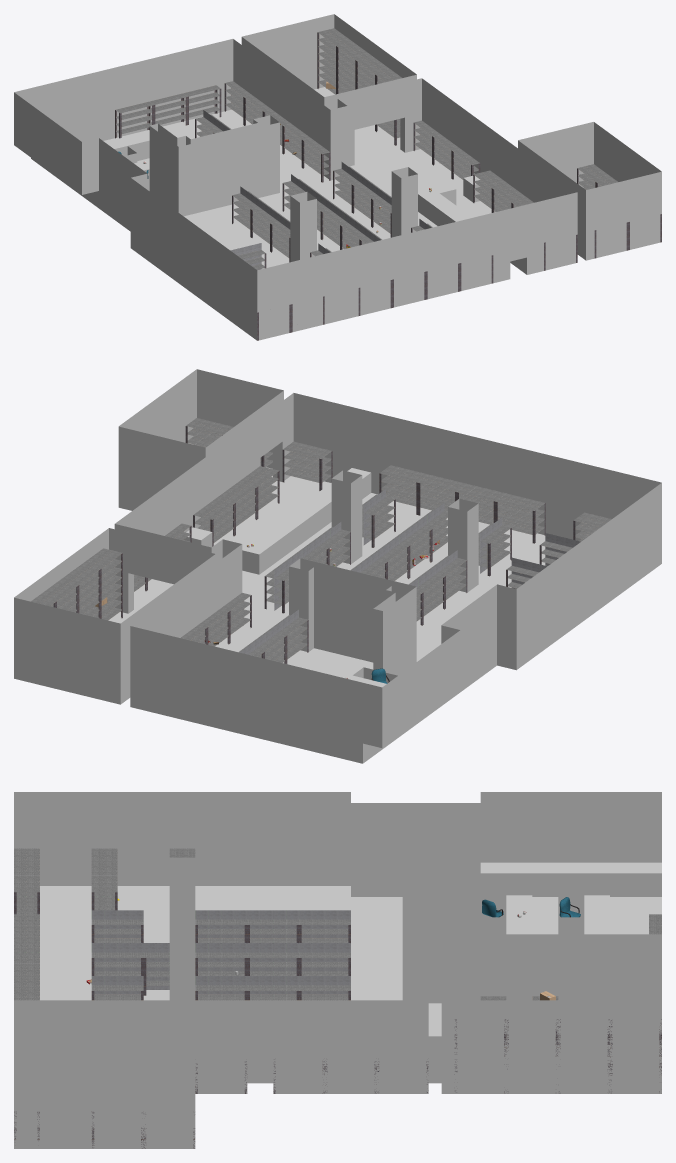
The model's file is Supermarket.fbx.
The picture shows the model from 3 angles, top to bottom: view 1: azimuth 30°, elevation 25°; view 2: azimuth 150°, elevation 25°; view 3: azimuth 270°, elevation 25°; orthographic projection. The views are drawn at different scales.
Visible parts, largest first — view 1: Terrain, BigShelf.002, BigShelf.004, BigWideShelf2.016, BigWideShelf2.010, BigWideShelf.009, BigWideShelf.017, BigWideShelf.010, BigWideShelf2.009, BigShelf.003, BigWideShelf2.019, BigWideShelf2.018 (+16 smaller); view 2: Terrain, BigWideShelf.020, BigWideShelf.007, BigWideShelf.016, BigWideShelf2.004, BigWideShelf2.011, BigWideShelf.015, BigWideShelf.017, BigWideShelf.018, BigWideShelf.019, BigWideShelf.011, BigWideShelf.012 (+18 smaller); view 3: Terrain, BigWideShelf2.004, BigWideShelf2.006, BigWideShelf2.007, BigWideShelf2.009, BigWideShelf2.005, BigWideShelf2.010, BigWideShelf2.017, BigWideShelf2.018, BigWideShelf2.011, BigWideShelf2.012, BigWideShelf2.016 (+10 smaller).
Part boxes in pixels (left/top/right/bottom): Terrain: left=14, top=14, right=661, bottom=340; BigShelf.002: left=115, top=101, right=153, bottom=138; BigShelf.004: left=183, top=85, right=221, bottom=124; BigWideShelf2.016: left=333, top=162, right=368, bottom=212; BigWideShelf2.010: left=232, top=186, right=267, bottom=237; BigWideShelf.009: left=317, top=28, right=353, bottom=74; BigWideShelf.017: left=473, top=170, right=508, bottom=212; BigWideShelf.010: left=337, top=42, right=372, bottom=88; BigWideShelf2.009: left=321, top=203, right=357, bottom=249; BigShelf.003: left=149, top=93, right=187, bottom=125; BigWideShelf2.019: left=352, top=176, right=388, bottom=226; BigWideShelf2.018: left=251, top=201, right=287, bottom=251; Terrain: left=14, top=369, right=661, bottom=763; BigWideShelf.020: left=282, top=441, right=332, bottom=490; BigWideShelf.007: left=495, top=493, right=545, bottom=543; BigWideShelf.016: left=379, top=465, right=428, bottom=514; BigWideShelf2.004: left=478, top=517, right=511, bottom=576; BigWideShelf2.011: left=362, top=489, right=395, bottom=547; BigWideShelf.015: left=418, top=474, right=467, bottom=515; BigWideShelf.017: left=193, top=499, right=234, bottom=546; BigWideShelf.018: left=215, top=482, right=257, bottom=535; BigWideShelf.019: left=238, top=466, right=279, bottom=518; BigWideShelf.011: left=59, top=564, right=100, bottom=613; BigWideShelf.012: left=81, top=548, right=122, bottom=601; Terrain: left=14, top=792, right=661, bottom=1148; BigWideShelf2.004: left=91, top=910, right=143, bottom=942; BigWideShelf2.006: left=195, top=910, right=247, bottom=942; BigWideShelf2.007: left=91, top=943, right=143, bottom=975; BigWideShelf2.009: left=195, top=943, right=247, bottom=975; BigWideShelf2.005: left=299, top=943, right=350, bottom=975; BigWideShelf2.010: left=299, top=910, right=350, bottom=942; BigWideShelf2.017: left=247, top=943, right=298, bottom=975; BigWideShelf2.018: left=247, top=910, right=298, bottom=942; BigWideShelf2.011: left=91, top=976, right=143, bottom=1000; BigWideShelf2.012: left=195, top=976, right=247, bottom=1000; BigWideShelf2.016: left=299, top=976, right=350, bottom=1000.
Size of what is drawn, in the model's own units: 2400 by 402 by 2500.
